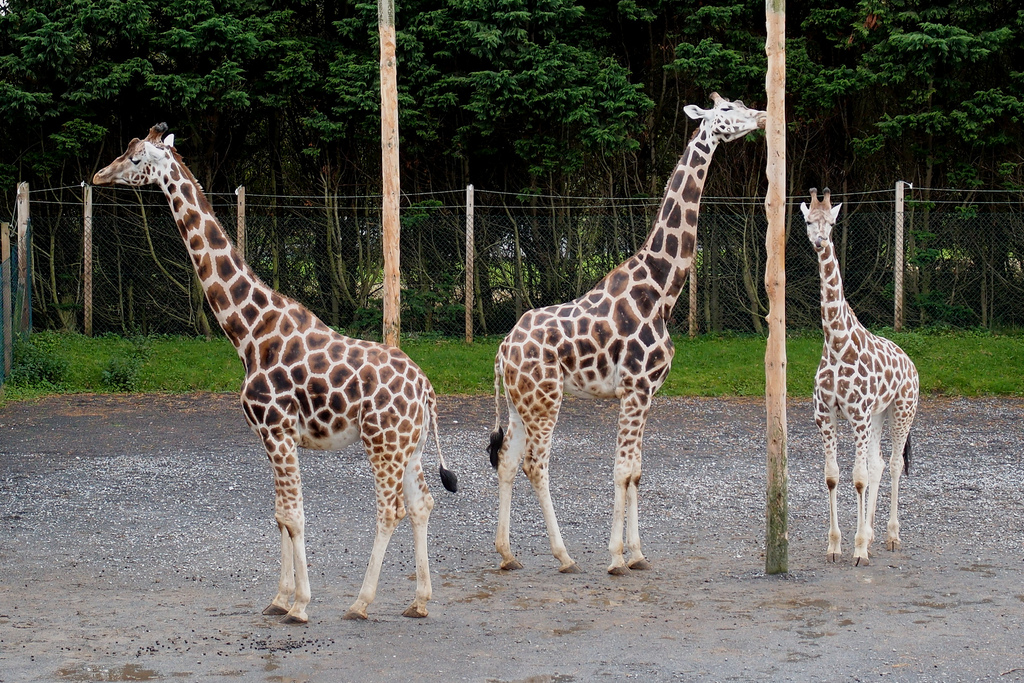giraffe: (83, 117, 471, 647), (483, 65, 775, 624), (799, 165, 923, 593)
